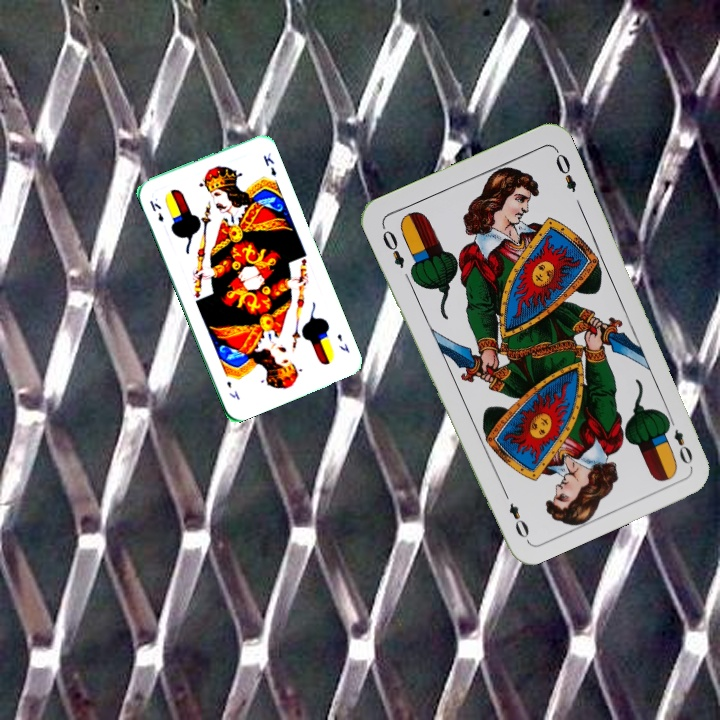EK: (146, 196, 166, 224), (333, 330, 352, 356)
EO: (663, 411, 696, 467), (378, 225, 407, 271)
